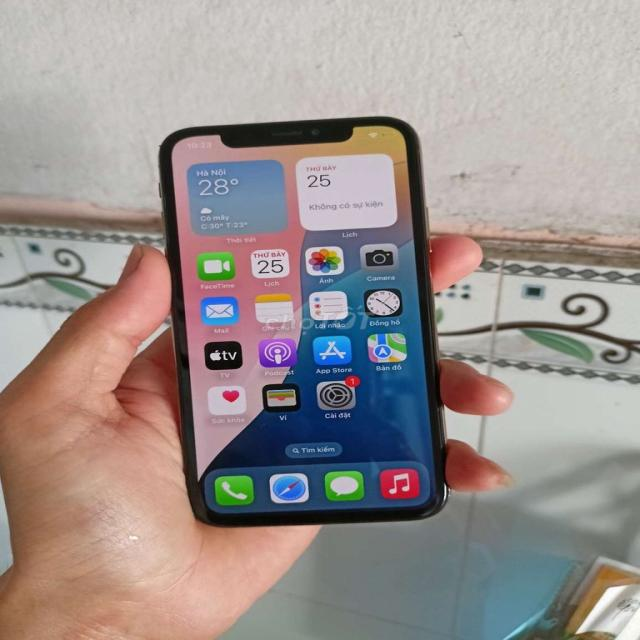gen_x_xs: (159, 116, 448, 526)
